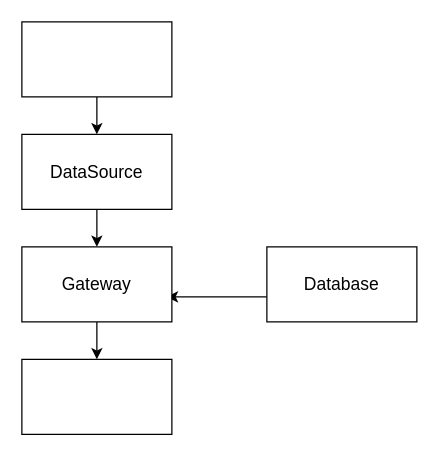
The diagram is 439 pixels wide and 456 high, and some of its shapes have lost their labels. Here are the shapes that lost their labels. From the top down, the centre of each, then its label:
At (x=96, y=59): "Api".
At (x=96, y=396): "UseCase".
